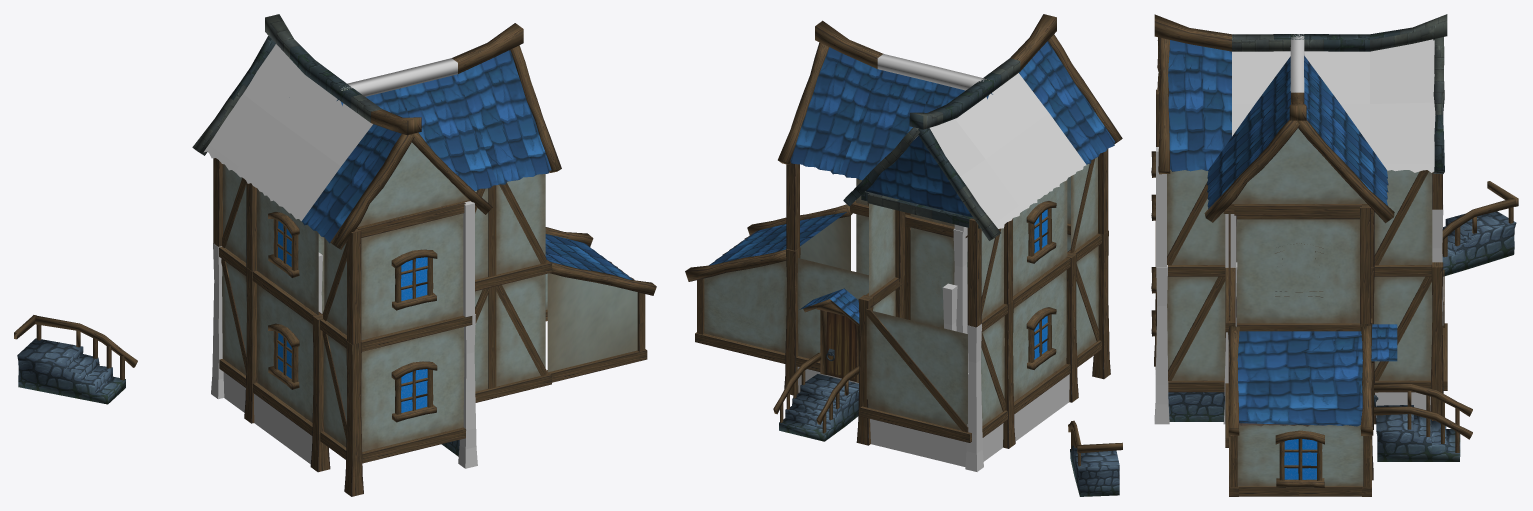
File: house4.fbx
3 views of the same model, side by side, from view 1: azimuth 30°, elevation 25°; view 2: azimuth 150°, elevation 25°; view 3: azimuth 270°, elevation 25° (orthographic). The views are drawn at different scales.
Visible parts, largest first — view 1: Plane.030; view 2: Plane.030; view 3: Plane.030.
Part boxes in pixels (x1=…): Plane.030: x1=14, y1=14, x2=656, y2=496; Plane.030: x1=685, y1=14, x2=1122, y2=496; Plane.030: x1=1151, y1=14, x2=1518, y2=496.
Bounding box in the file's own units: 2249 × 1506 × 1338.
